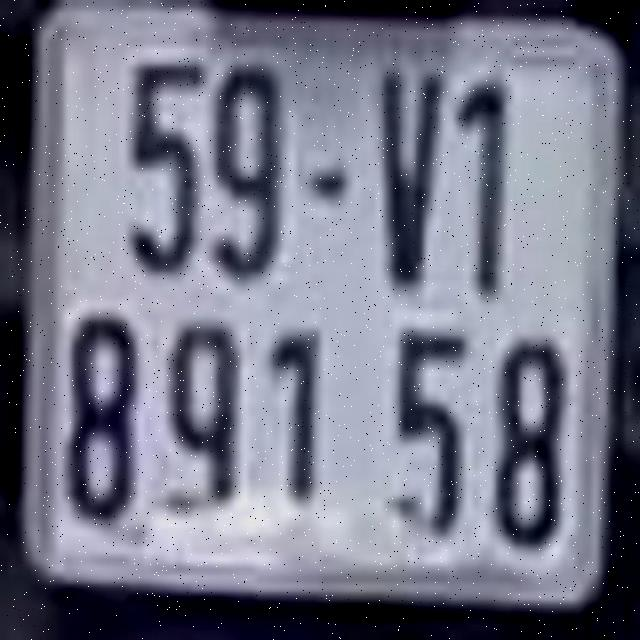1: (453, 72, 512, 298), (265, 322, 324, 508)
5: (389, 322, 468, 541), (127, 58, 202, 275)
8: (493, 333, 566, 550), (66, 314, 137, 522)
9: (210, 61, 283, 281), (164, 318, 240, 516)
V: (375, 61, 447, 289)
